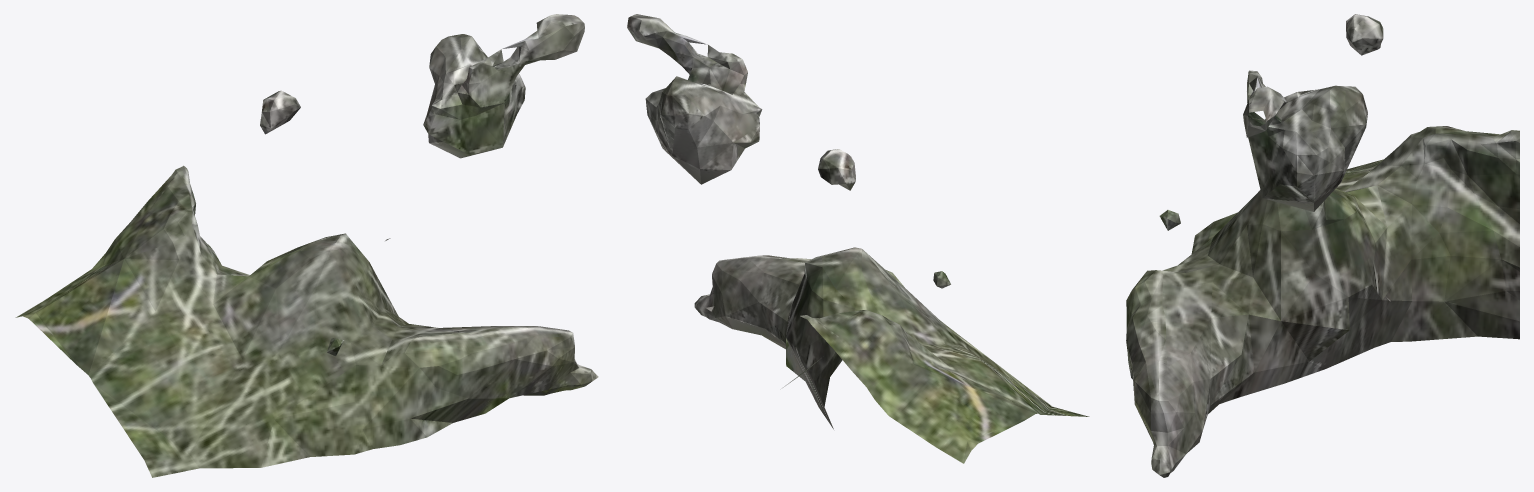
3 views of the same model, side by side, from view 1: azimuth 30°, elevation 25°; view 2: azimuth 150°, elevation 25°; view 3: azimuth 270°, elevation 25° (orthographic). The views are drawn at different scales.
Size of the model in its own units: 2.95 by 2.07 by 1.88.
2 materials, 2 textured.
